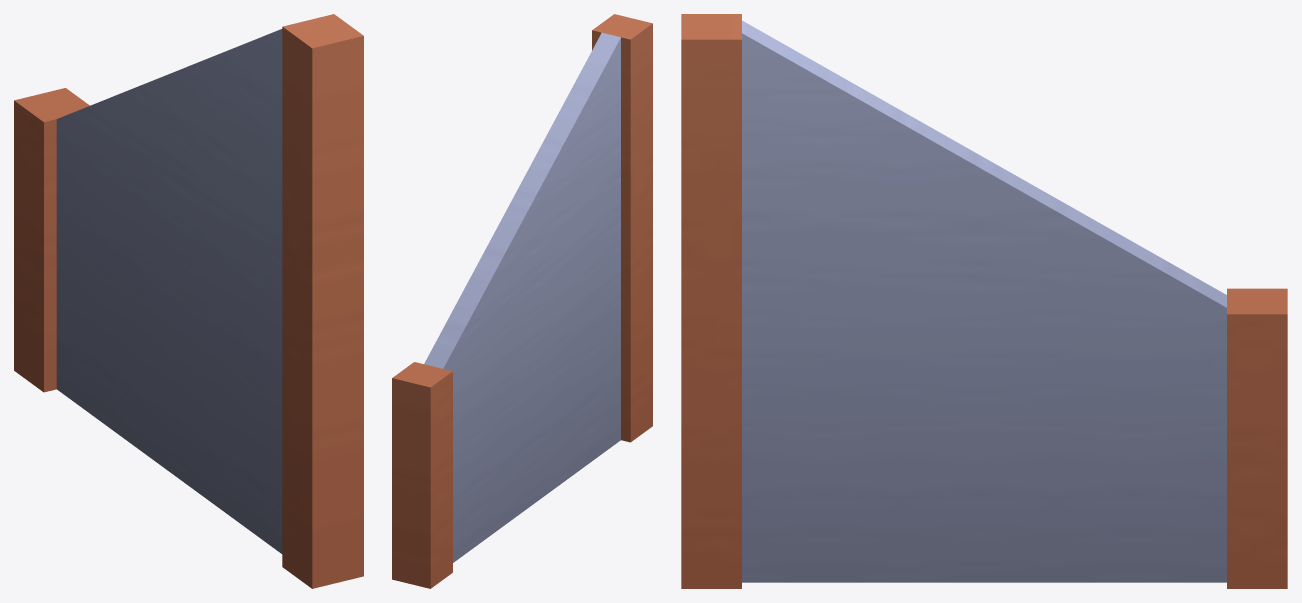
The model's file is wallSlope.fbx.
The picture shows the model from 3 angles, left to right: view 1: azimuth 30°, elevation 25°; view 2: azimuth 150°, elevation 25°; view 3: azimuth 270°, elevation 25°; orthographic projection. The views are drawn at different scales.
Visible parts, largest first — view 1: wallSlope; view 2: wallSlope; view 3: wallSlope.
Part boxes in pixels (left/top/right/bottom): wallSlope: left=14, top=14, right=363, bottom=588; wallSlope: left=392, top=14, right=652, bottom=588; wallSlope: left=681, top=14, right=1287, bottom=588.
Bounding box in the file's own units: 0.1 × 1 × 1.
